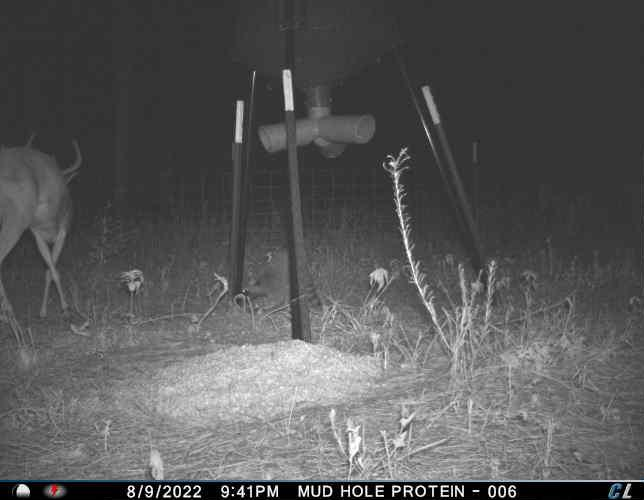Deer: (0, 133, 84, 345)
Raccoon: (239, 245, 331, 320)
